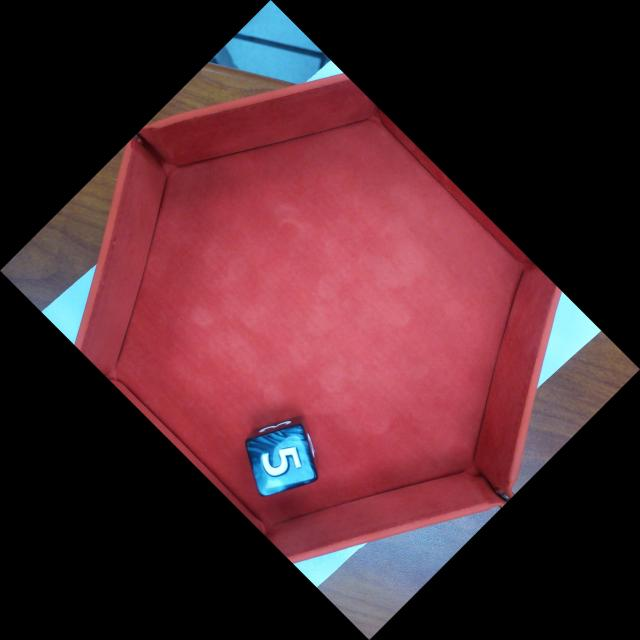dice: (242, 422, 320, 499)
